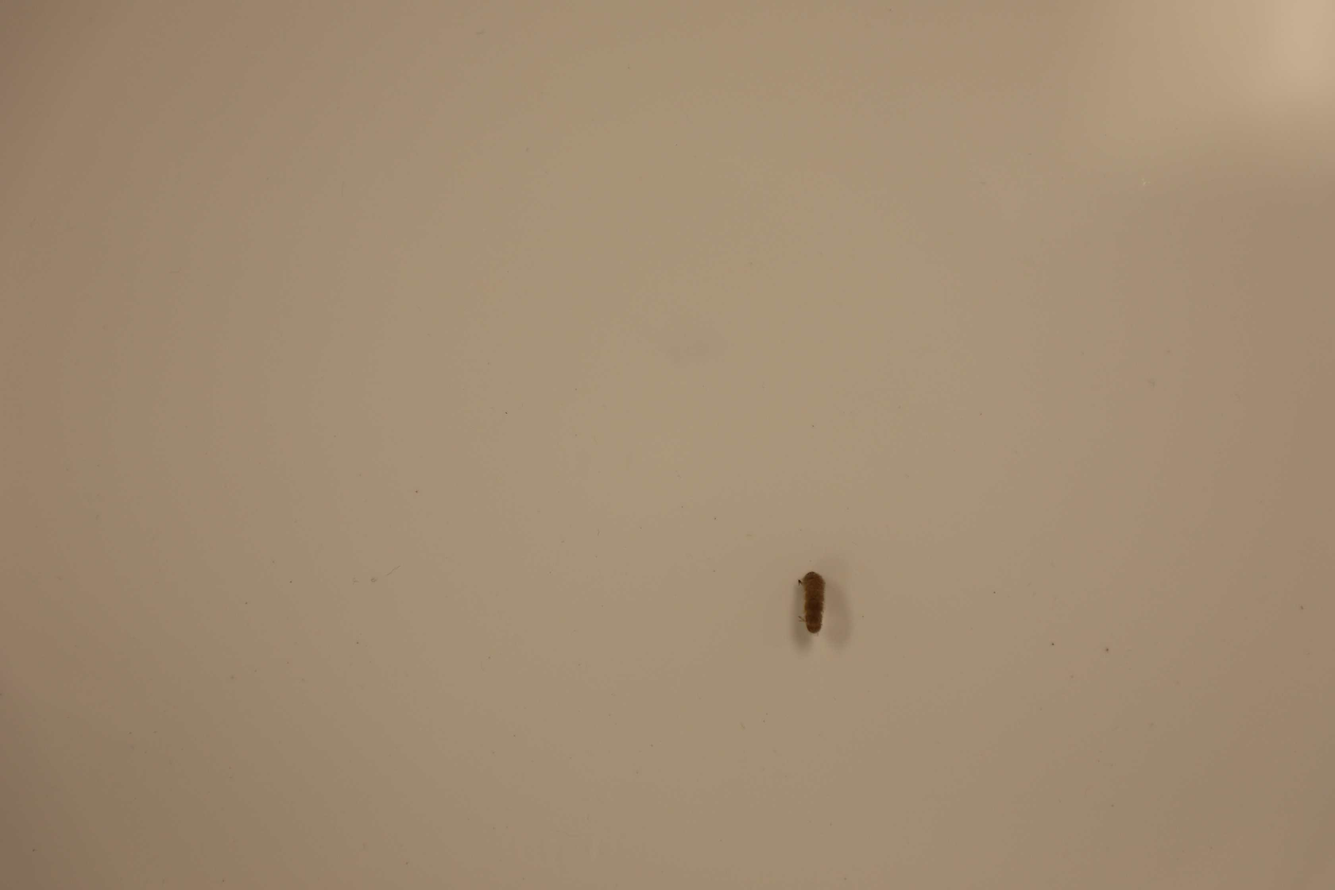Cadisfly: (793, 563, 834, 644)
